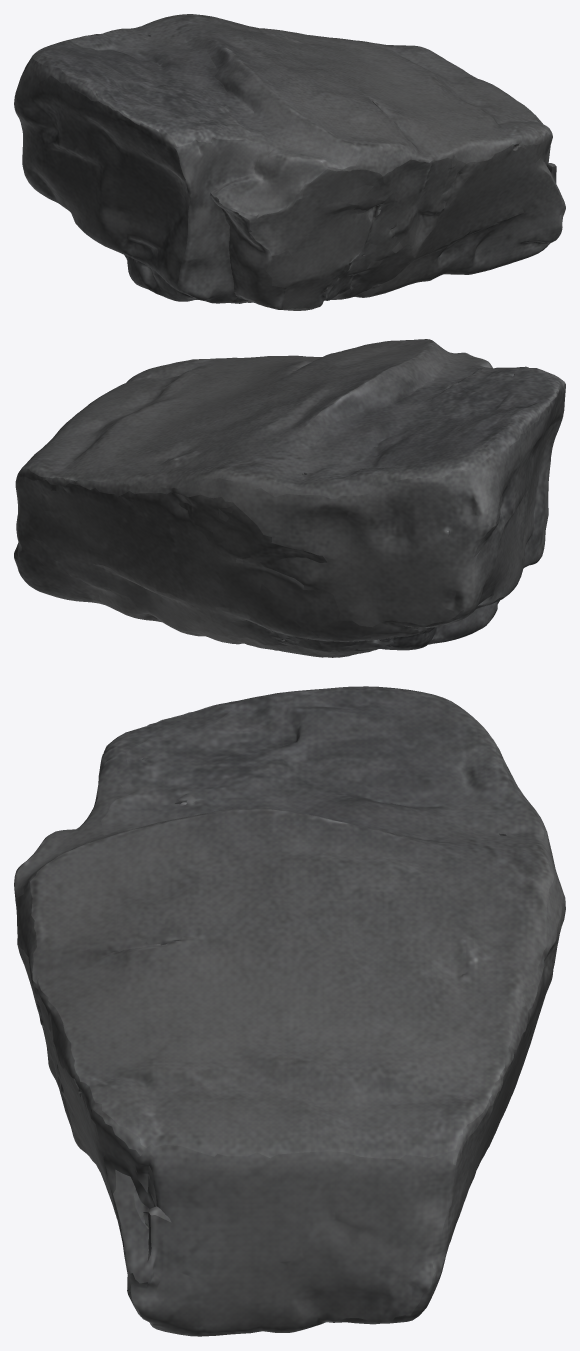
File: tex_mesh.glb
3 views of the same model, one above another, from view 1: azimuth 30°, elevation 25°; view 2: azimuth 150°, elevation 25°; view 3: azimuth 270°, elevation 25° (orthographic). The views are drawn at different scales.
Parts seen in each view (by area): view 1: world; view 2: world; view 3: world.
Part boxes in pixels (x1,y1,x2,y2): world: (14,14,565,310); world: (14,339,565,657); world: (14,686,565,1336).
Size of the model in its own units: 3.5 by 1.79 by 2.53.
Materials: 1 (1 with a texture image).
